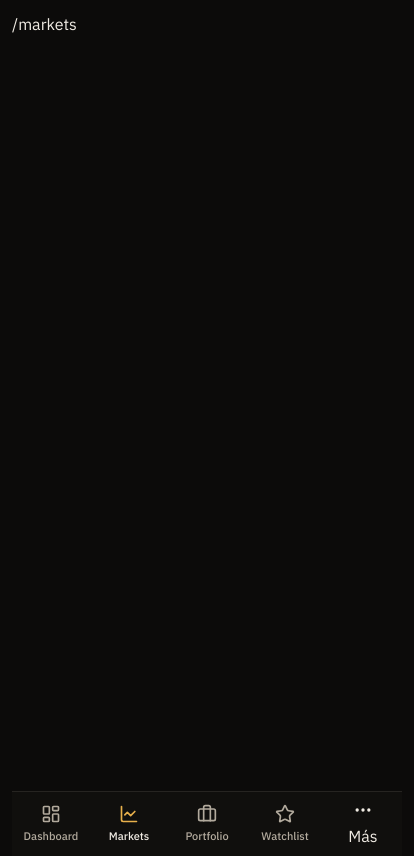
Scenario: BottomNav › More menu › closes when More is clicked a second time
Click the button "Más".
click(363, 824)  # box [324,792,402,855]
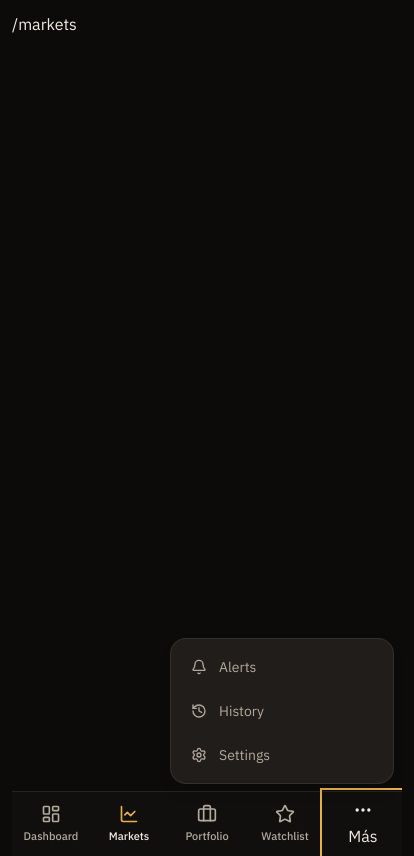
Click the button "Más".
click(363, 824)  # box [324,792,402,855]
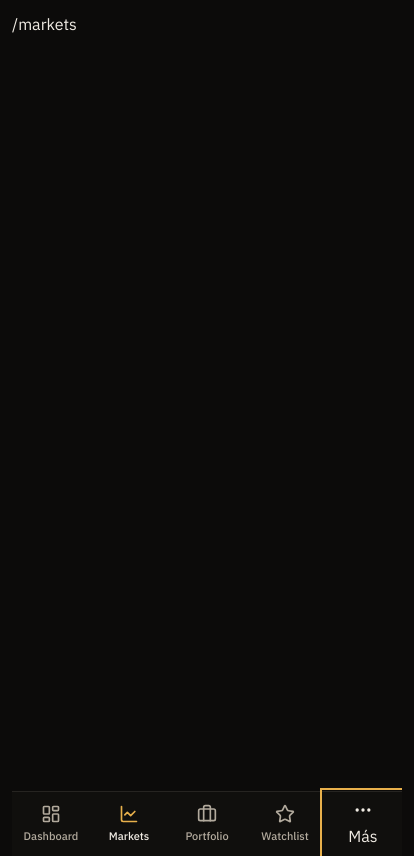
Check: the link "Alerts" is gone
